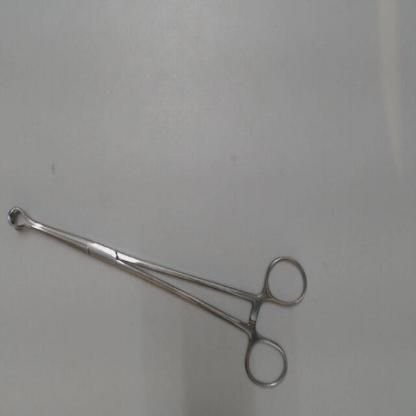8 Babcock Tissue Forceps: (5, 199, 320, 399)
